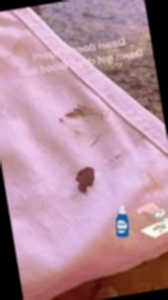blood: (71, 165, 101, 196)
